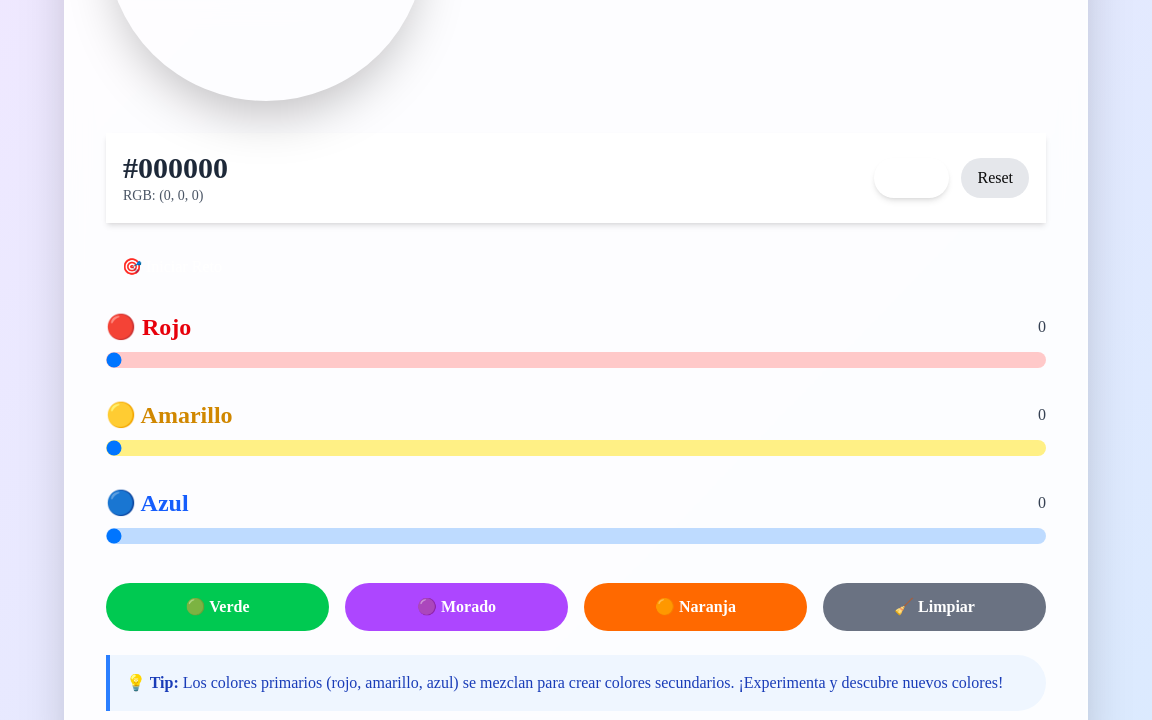
Test: ColorMixer Component › debe limpiar todos los valores con botón Limpiar
(page scrolled)
Primero establecer algunos valores
Step 1. Set the slider with test id "red-slider" to "100" → [476, 360], box [106,352,1046,368]
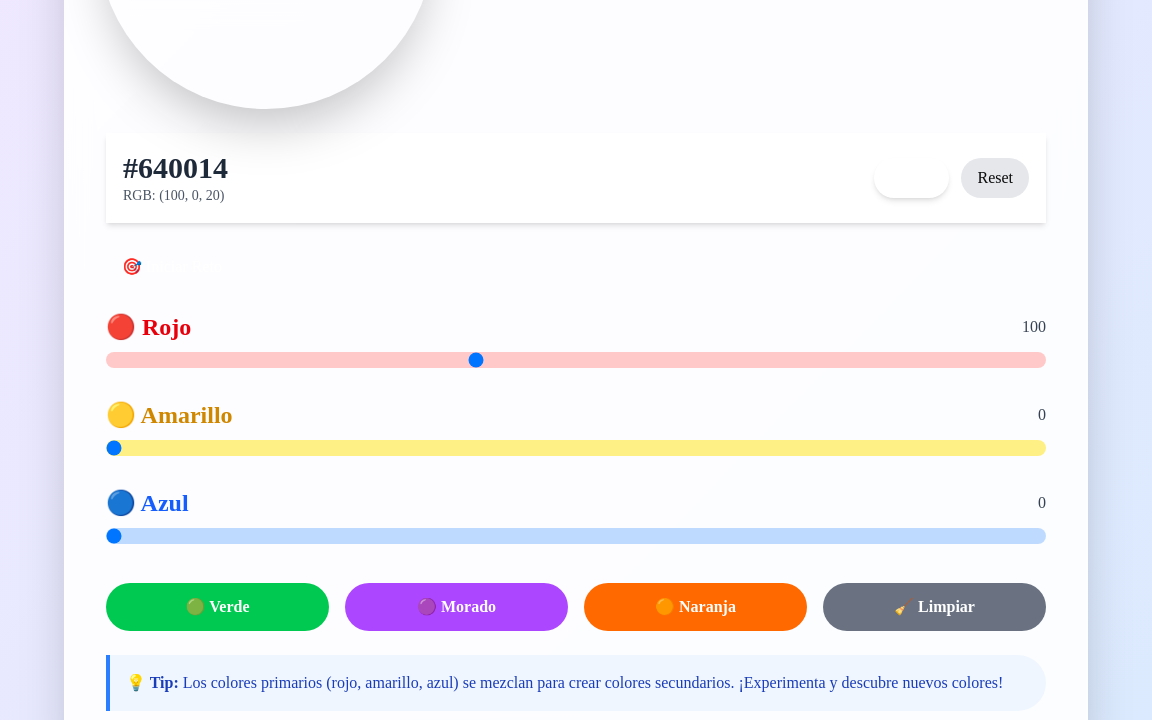
Luego limpiar
Step 2. Click the button with test id "clear-button" → [934, 607], box [823,583,1046,631]
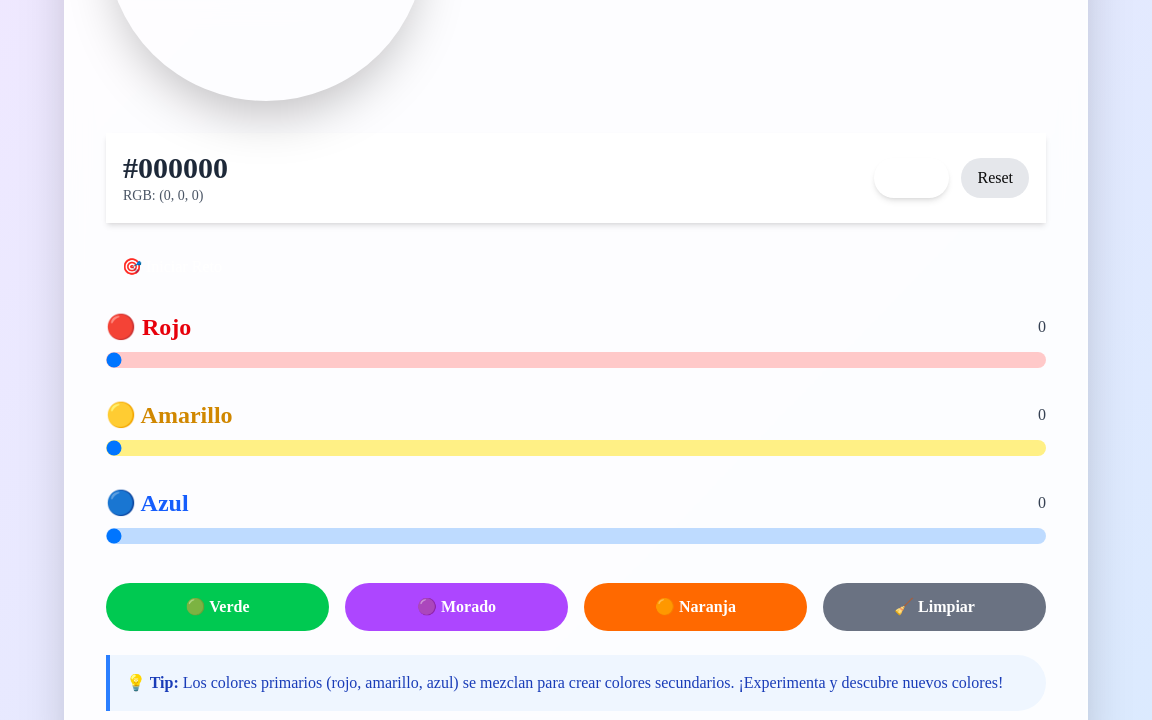
Expected: the slider with test id "red-slider" holds "0", [106,352,1046,368]
Expected: the text "#000000" is shown, [123,150,228,186]
